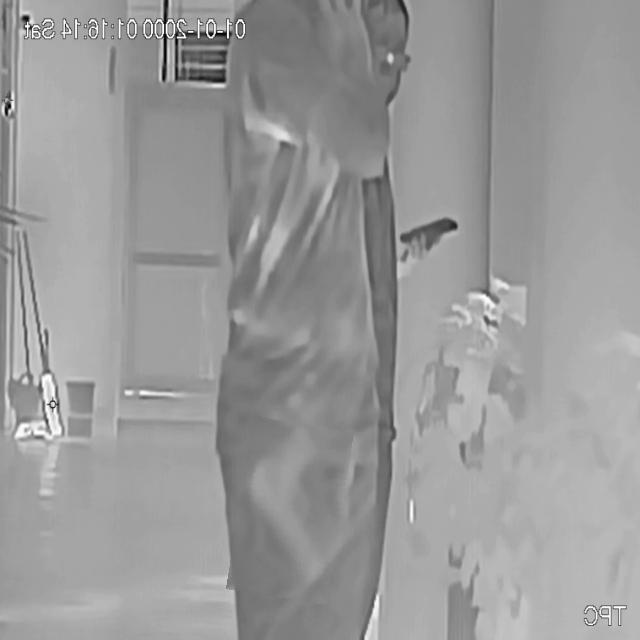Weapon: (232, 419, 347, 602)
